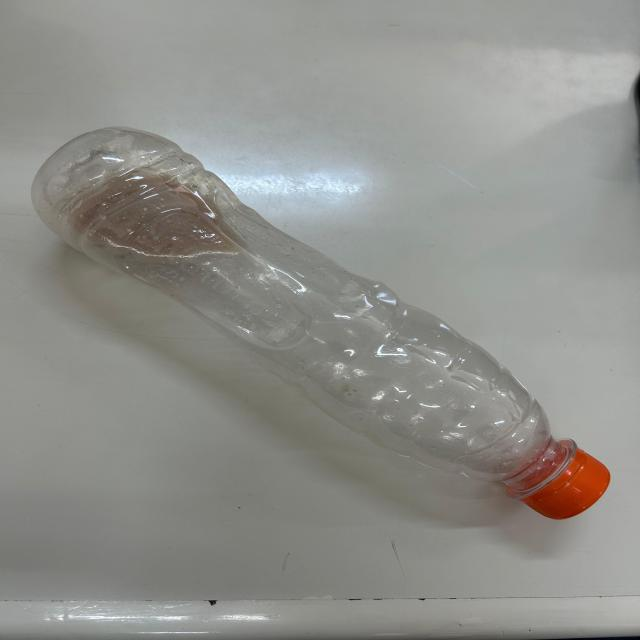inorganic: (30, 124, 614, 522)
